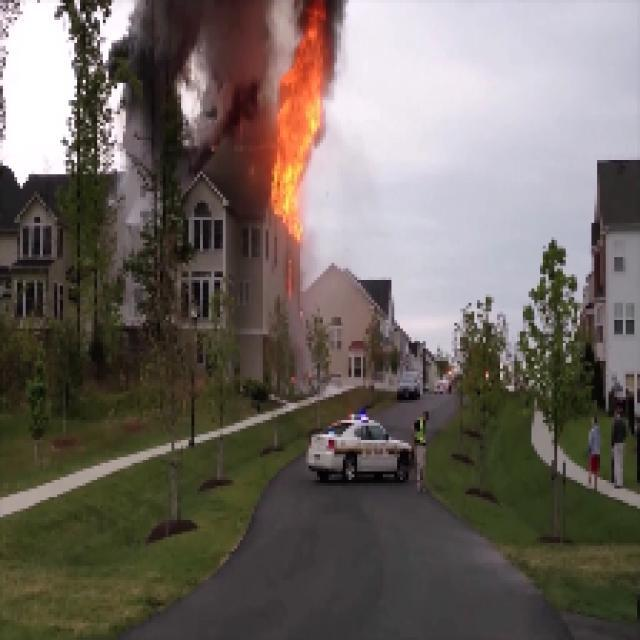Fire: (136, 2, 262, 136), (276, 30, 322, 228)
